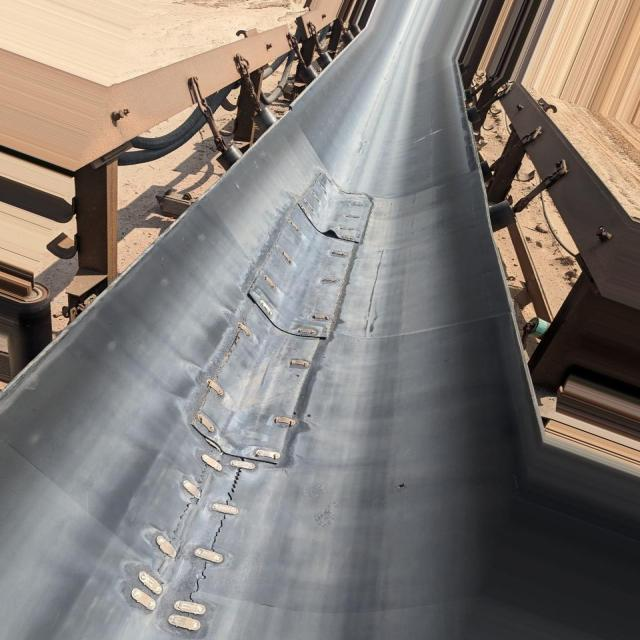patch work: (122, 170, 373, 633)
